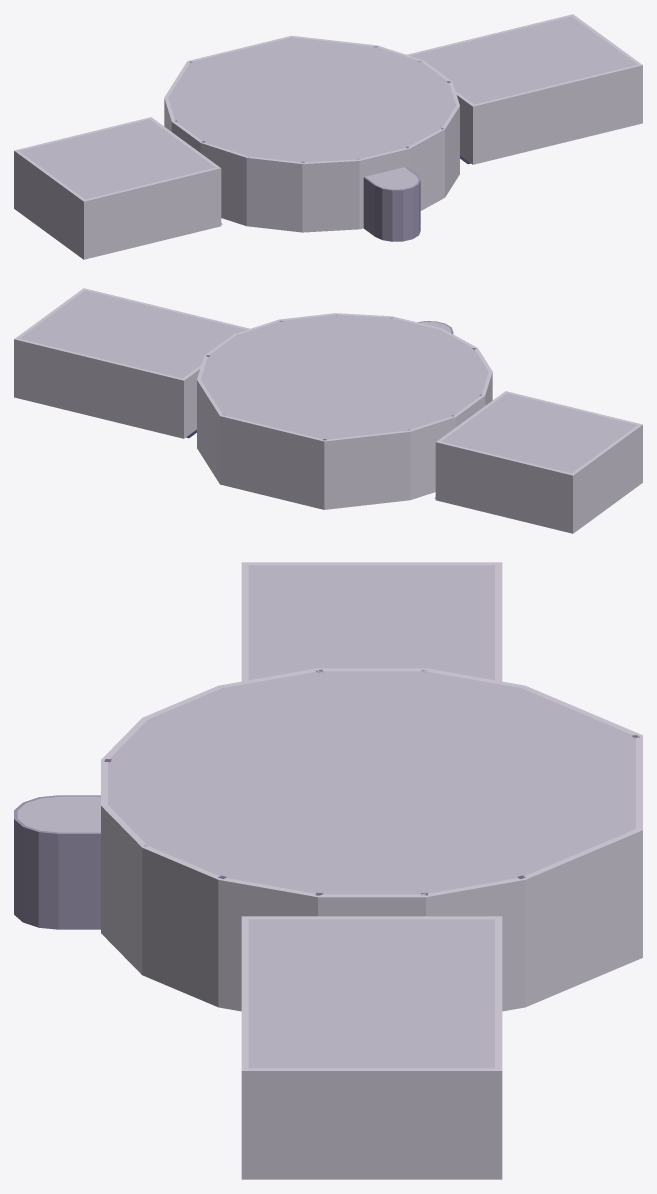
The model's file is command-deck.glb.
The picture shows the model from 3 angles, top to bottom: view 1: azimuth 30°, elevation 25°; view 2: azimuth 150°, elevation 25°; view 3: azimuth 270°, elevation 25°; orthographic projection. The views are drawn at different scales.
Parts seen in each view (by area): view 1: bridge ceiling, ready room wall 0, lounge wall 0, bridge wall 1, lounge ceiling, ready room ceiling, bridge wall 2, turbolift wall, bridge wall 0, turbolift ceiling, bridge wall lintel.001; view 2: bridge ceiling, bridge wall 0, ready room wall 0, lounge wall 0, lounge ceiling, ready room ceiling, bridge wall 1, bridge wall 2; view 3: bridge ceiling, lounge ceiling, lounge wall 0, ready room ceiling, bridge wall 0, bridge wall 2, turbolift wall, ready room wall 0, turbolift ceiling, bridge wall lintel.002, bridge wall 1.
Boxes of the visible parts, x1=… form: bridge ceiling: x1=168, y1=37, x2=455, y2=162; ready room wall 0: x1=14, y1=117, x2=221, y2=259; lounge wall 0: x1=407, y1=14, x2=642, y2=164; bridge wall 1: x1=196, y1=139, x2=367, y2=232; lounge ceiling: x1=410, y1=16, x2=637, y2=104; ready room ceiling: x1=19, y1=119, x2=215, y2=199; bridge wall 2: x1=401, y1=78, x2=459, y2=210; turbolift wall: x1=363, y1=167, x2=420, y2=241; bridge wall 0: x1=164, y1=35, x2=427, y2=134; turbolift ceiling: x1=365, y1=167, x2=418, y2=189; bridge wall lintel.001: x1=365, y1=149, x2=402, y2=175; bridge ceiling: x1=201, y1=314, x2=488, y2=439; bridge wall 0: x1=197, y1=352, x2=460, y2=509; ready room wall 0: x1=435, y1=391, x2=642, y2=533; lounge wall 0: x1=14, y1=288, x2=249, y2=438; lounge ceiling: x1=19, y1=290, x2=246, y2=378; ready room ceiling: x1=441, y1=393, x2=637, y2=473; bridge wall 1: x1=433, y1=326, x2=492, y2=408; bridge wall 2: x1=229, y1=313, x2=399, y2=338; bridge ceiling: x1=108, y1=671, x2=635, y2=894; lounge ceiling: x1=248, y1=919, x2=494, y2=1068; lounge wall 0: x1=241, y1=916, x2=502, y2=1179; ready room ceiling: x1=248, y1=565, x2=494, y2=680; bridge wall 0: x1=410, y1=668, x2=642, y2=1011; bridge wall 2: x1=101, y1=798, x2=333, y2=1011; turbolift wall: x1=14, y1=795, x2=100, y2=929; ready room wall 0: x1=241, y1=562, x2=502, y2=681; turbolift ceiling: x1=17, y1=796, x2=100, y2=832; bridge wall lintel.002: x1=334, y1=894, x2=409, y2=916; bridge wall 1: x1=101, y1=668, x2=333, y2=766.
Size of the model in its own units: 34.2 by 4 by 17.87.
